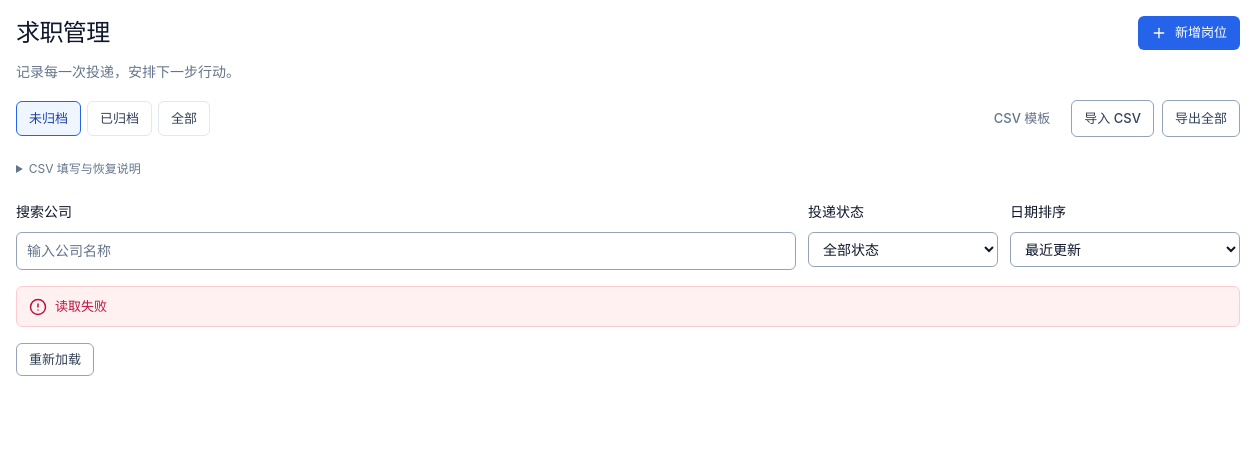
Scenario: 列表失败可以重试，不能伪装为空记录
The width and height of the screenshot is (1257, 463).
Click the button "重新加载": point(55, 360) [16,343,94,376]
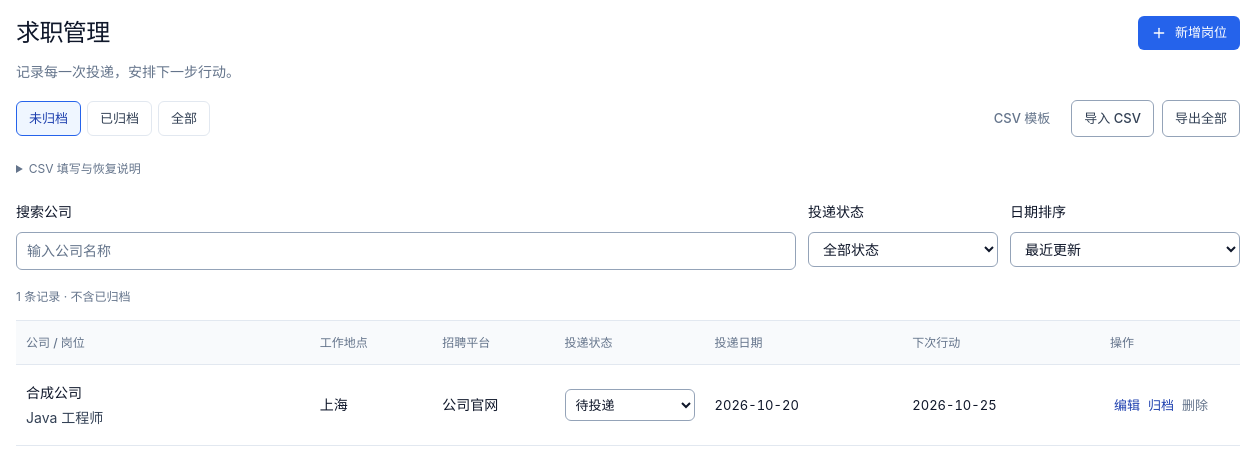
Now the text "Java 工程师" is shown, box [26,409,103,426]
